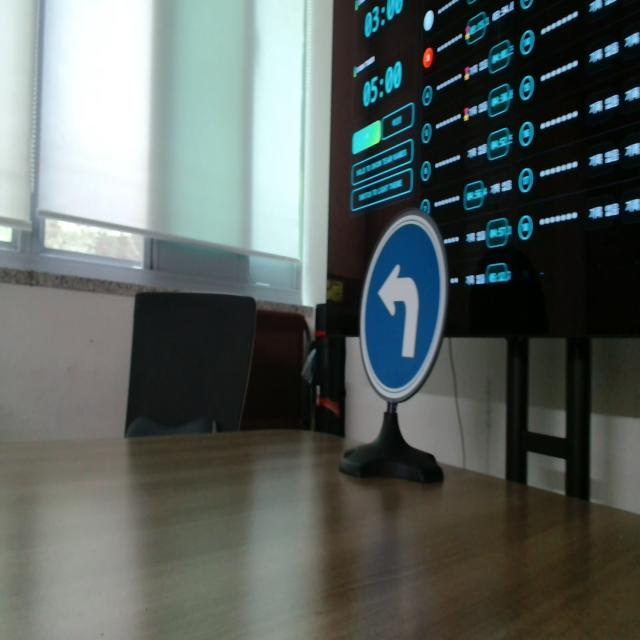left_direction: (346, 200, 466, 413)
